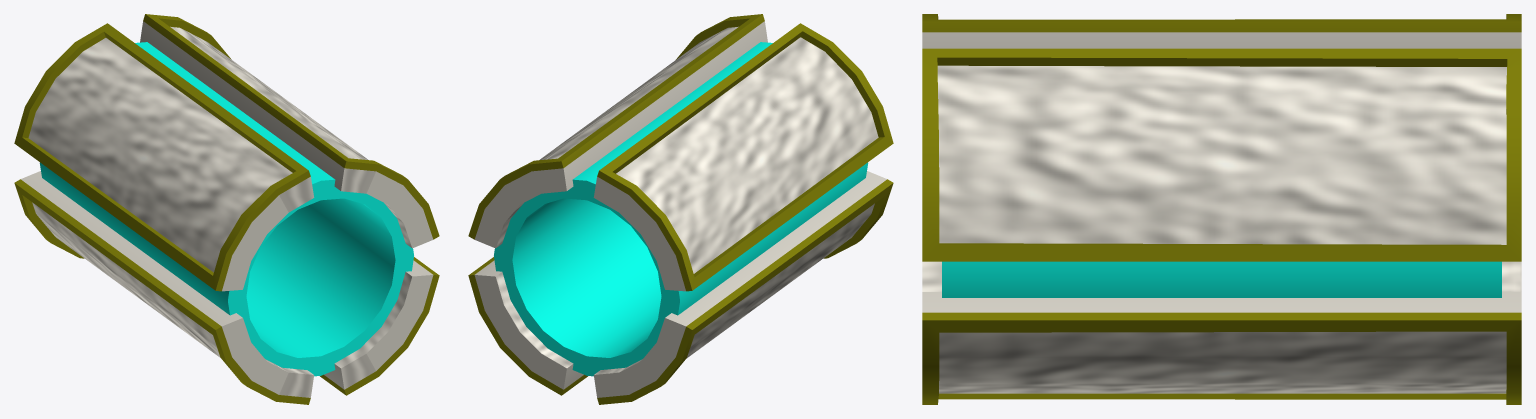
Rendered from f_taihou3.fbx.
3 views of the same model, side by side, from view 1: azimuth 30°, elevation 25°; view 2: azimuth 150°, elevation 25°; view 3: azimuth 270°, elevation 25° (orthographic). The views are drawn at different scales.
Visible parts, largest first — view 1: f_taihou_3, f_taihou_3desactived; view 2: f_taihou_3, f_taihou_3desactived; view 3: f_taihou_3, f_taihou_3desactived.
Part boxes in pixels (box(x1,y1,x2,y2)): f_taihou_3: box(14, 14, 439, 404); f_taihou_3desactived: box(39, 42, 413, 376); f_taihou_3: box(468, 14, 893, 404); f_taihou_3desactived: box(494, 42, 868, 376); f_taihou_3: box(922, 14, 1521, 404); f_taihou_3desactived: box(942, 261, 1501, 297).
Size of the model in its own units: 31.27 by 31.27 by 48.65.
4 materials, 4 textured.
